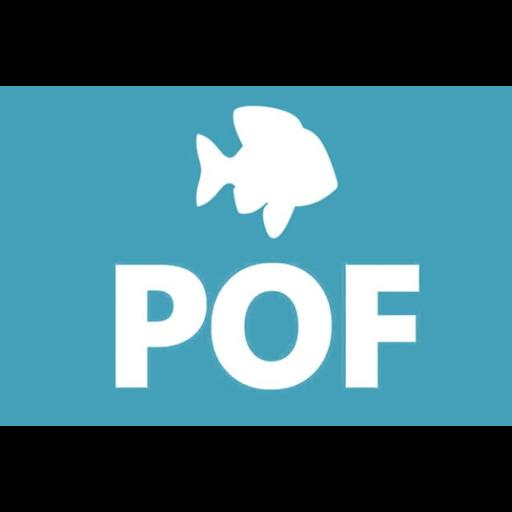POF: (0, 86, 512, 426)
